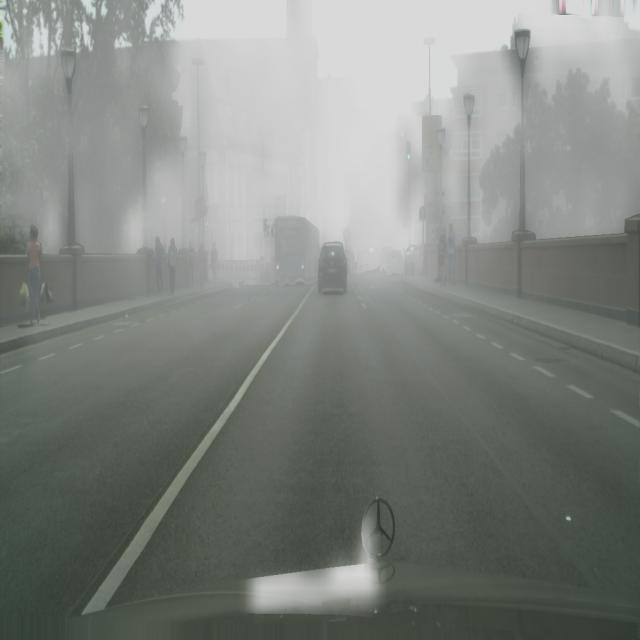bicycle: (273, 216, 320, 285)
bus: (25, 227, 44, 328), (445, 222, 456, 285), (167, 236, 178, 297), (154, 235, 163, 294), (437, 233, 446, 286), (211, 242, 218, 282)
person: (318, 242, 347, 294), (386, 250, 403, 276)
